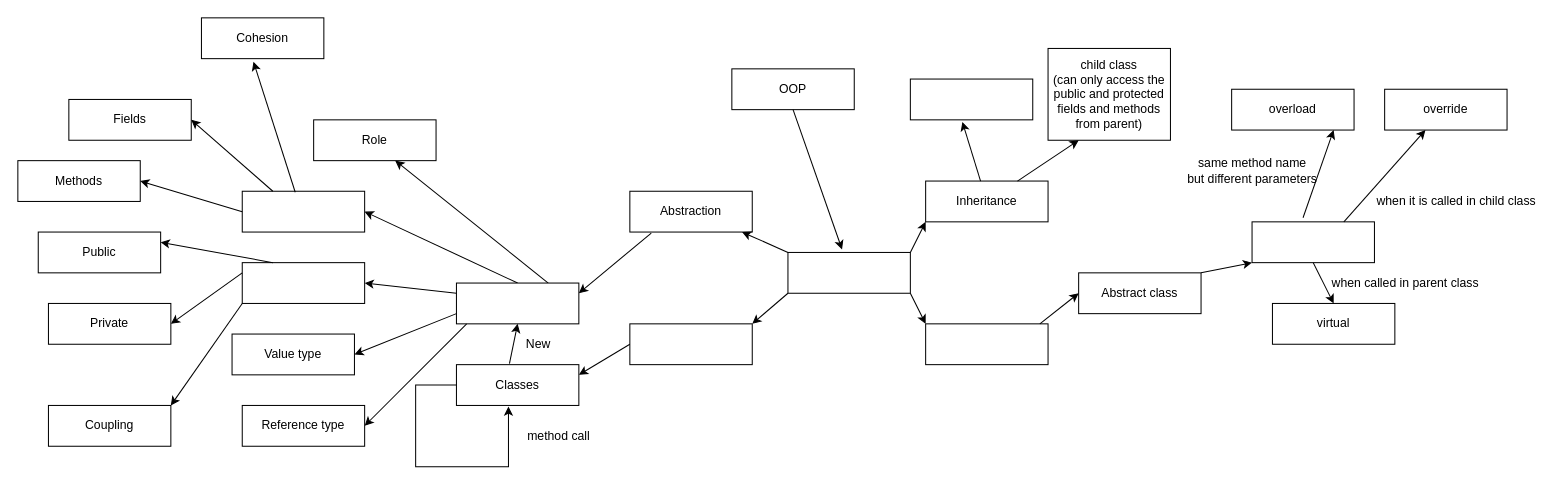
This 1561x493 diagram has some shape labels left out. Here are the shapes that lost their labels. From the top down, the centre of each, then its label:
At point 971,99: "Parent class".
At point 303,211: "Responsibility".
At point 1312,242: "Abstract methods".
At point 303,282: "Collaboration".
At point 848,272: "OOP Principles".
At point 517,303: "Object".
At point 690,344: "Encapsulation".
At point 986,344: "Polymorphism".
